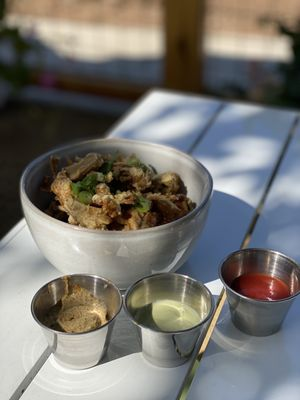sushi: (20, 136, 214, 288), (30, 274, 123, 372), (218, 248, 300, 338)
